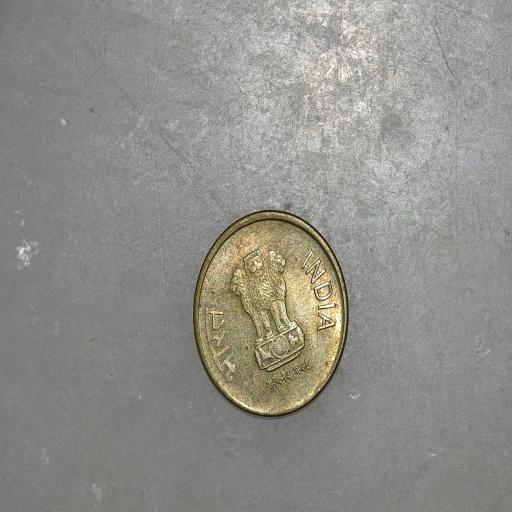rupee5: (192, 211, 350, 422)
